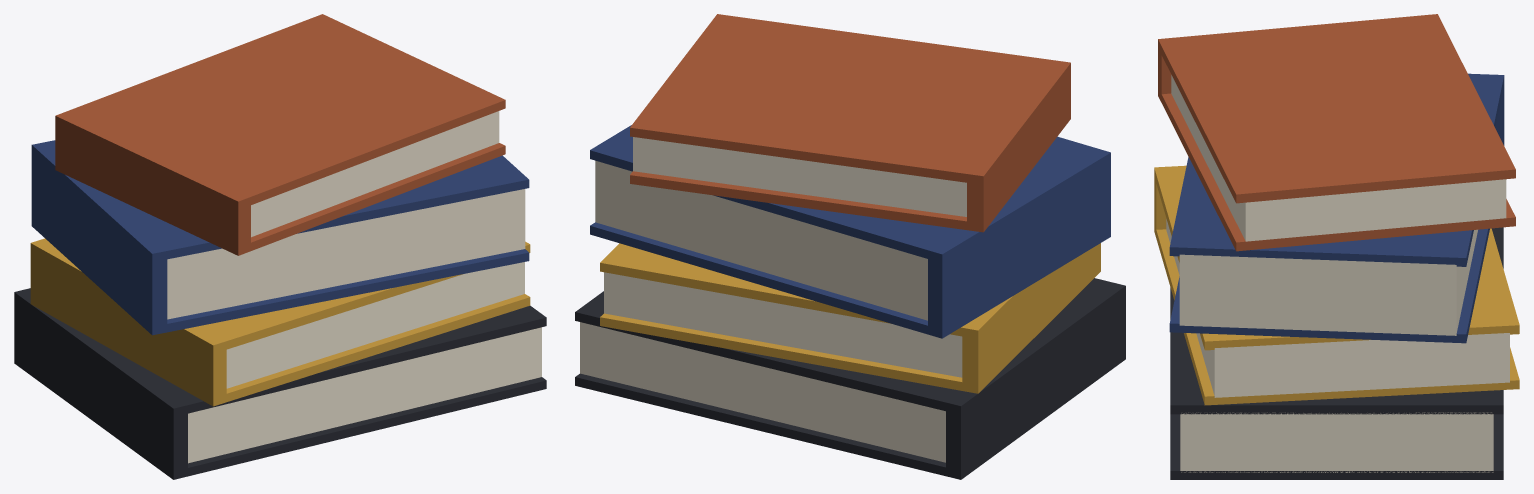
File: FN_Books_Stack.obj
3 views of the same model, side by side, from view 1: azimuth 30°, elevation 25°; view 2: azimuth 150°, elevation 25°; view 3: azimuth 270°, elevation 25° (orthographic). The views are drawn at different scales.
Parts seen in each view (by area): view 1: FN_Books_Stack; view 2: FN_Books_Stack; view 3: FN_Books_Stack.
Part boxes in pixels (left/top/right/bottom): FN_Books_Stack: left=14, top=14, right=546, bottom=479; FN_Books_Stack: left=575, top=14, right=1125, bottom=479; FN_Books_Stack: left=1154, top=14, right=1519, bottom=479.
Bounding box in the file's own units: 0.2344 × 0.158 × 0.1866.
Materials: 1 (1 with a texture image).
